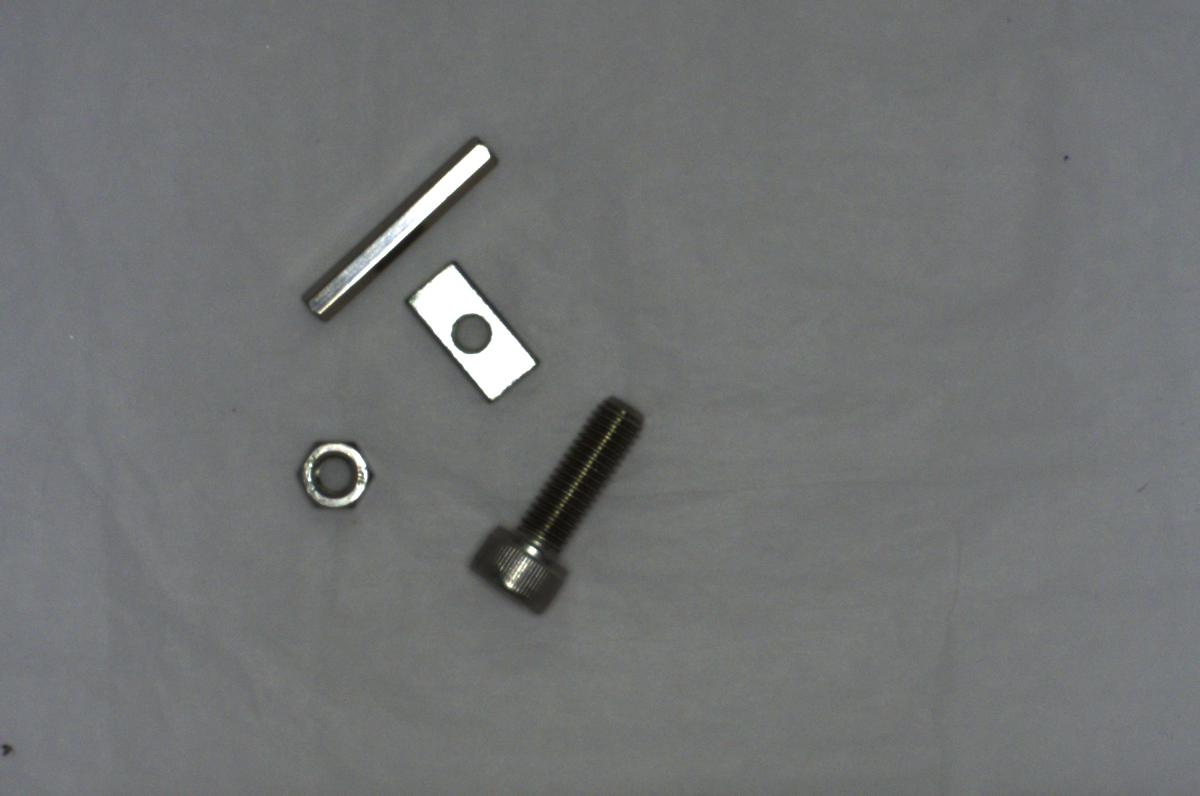Double hexagonal column: (282, 129, 499, 326)
Hexagon nut: (288, 432, 387, 515)
Hexagon screw: (477, 398, 641, 609)
Rectangular nut: (410, 262, 545, 403)
